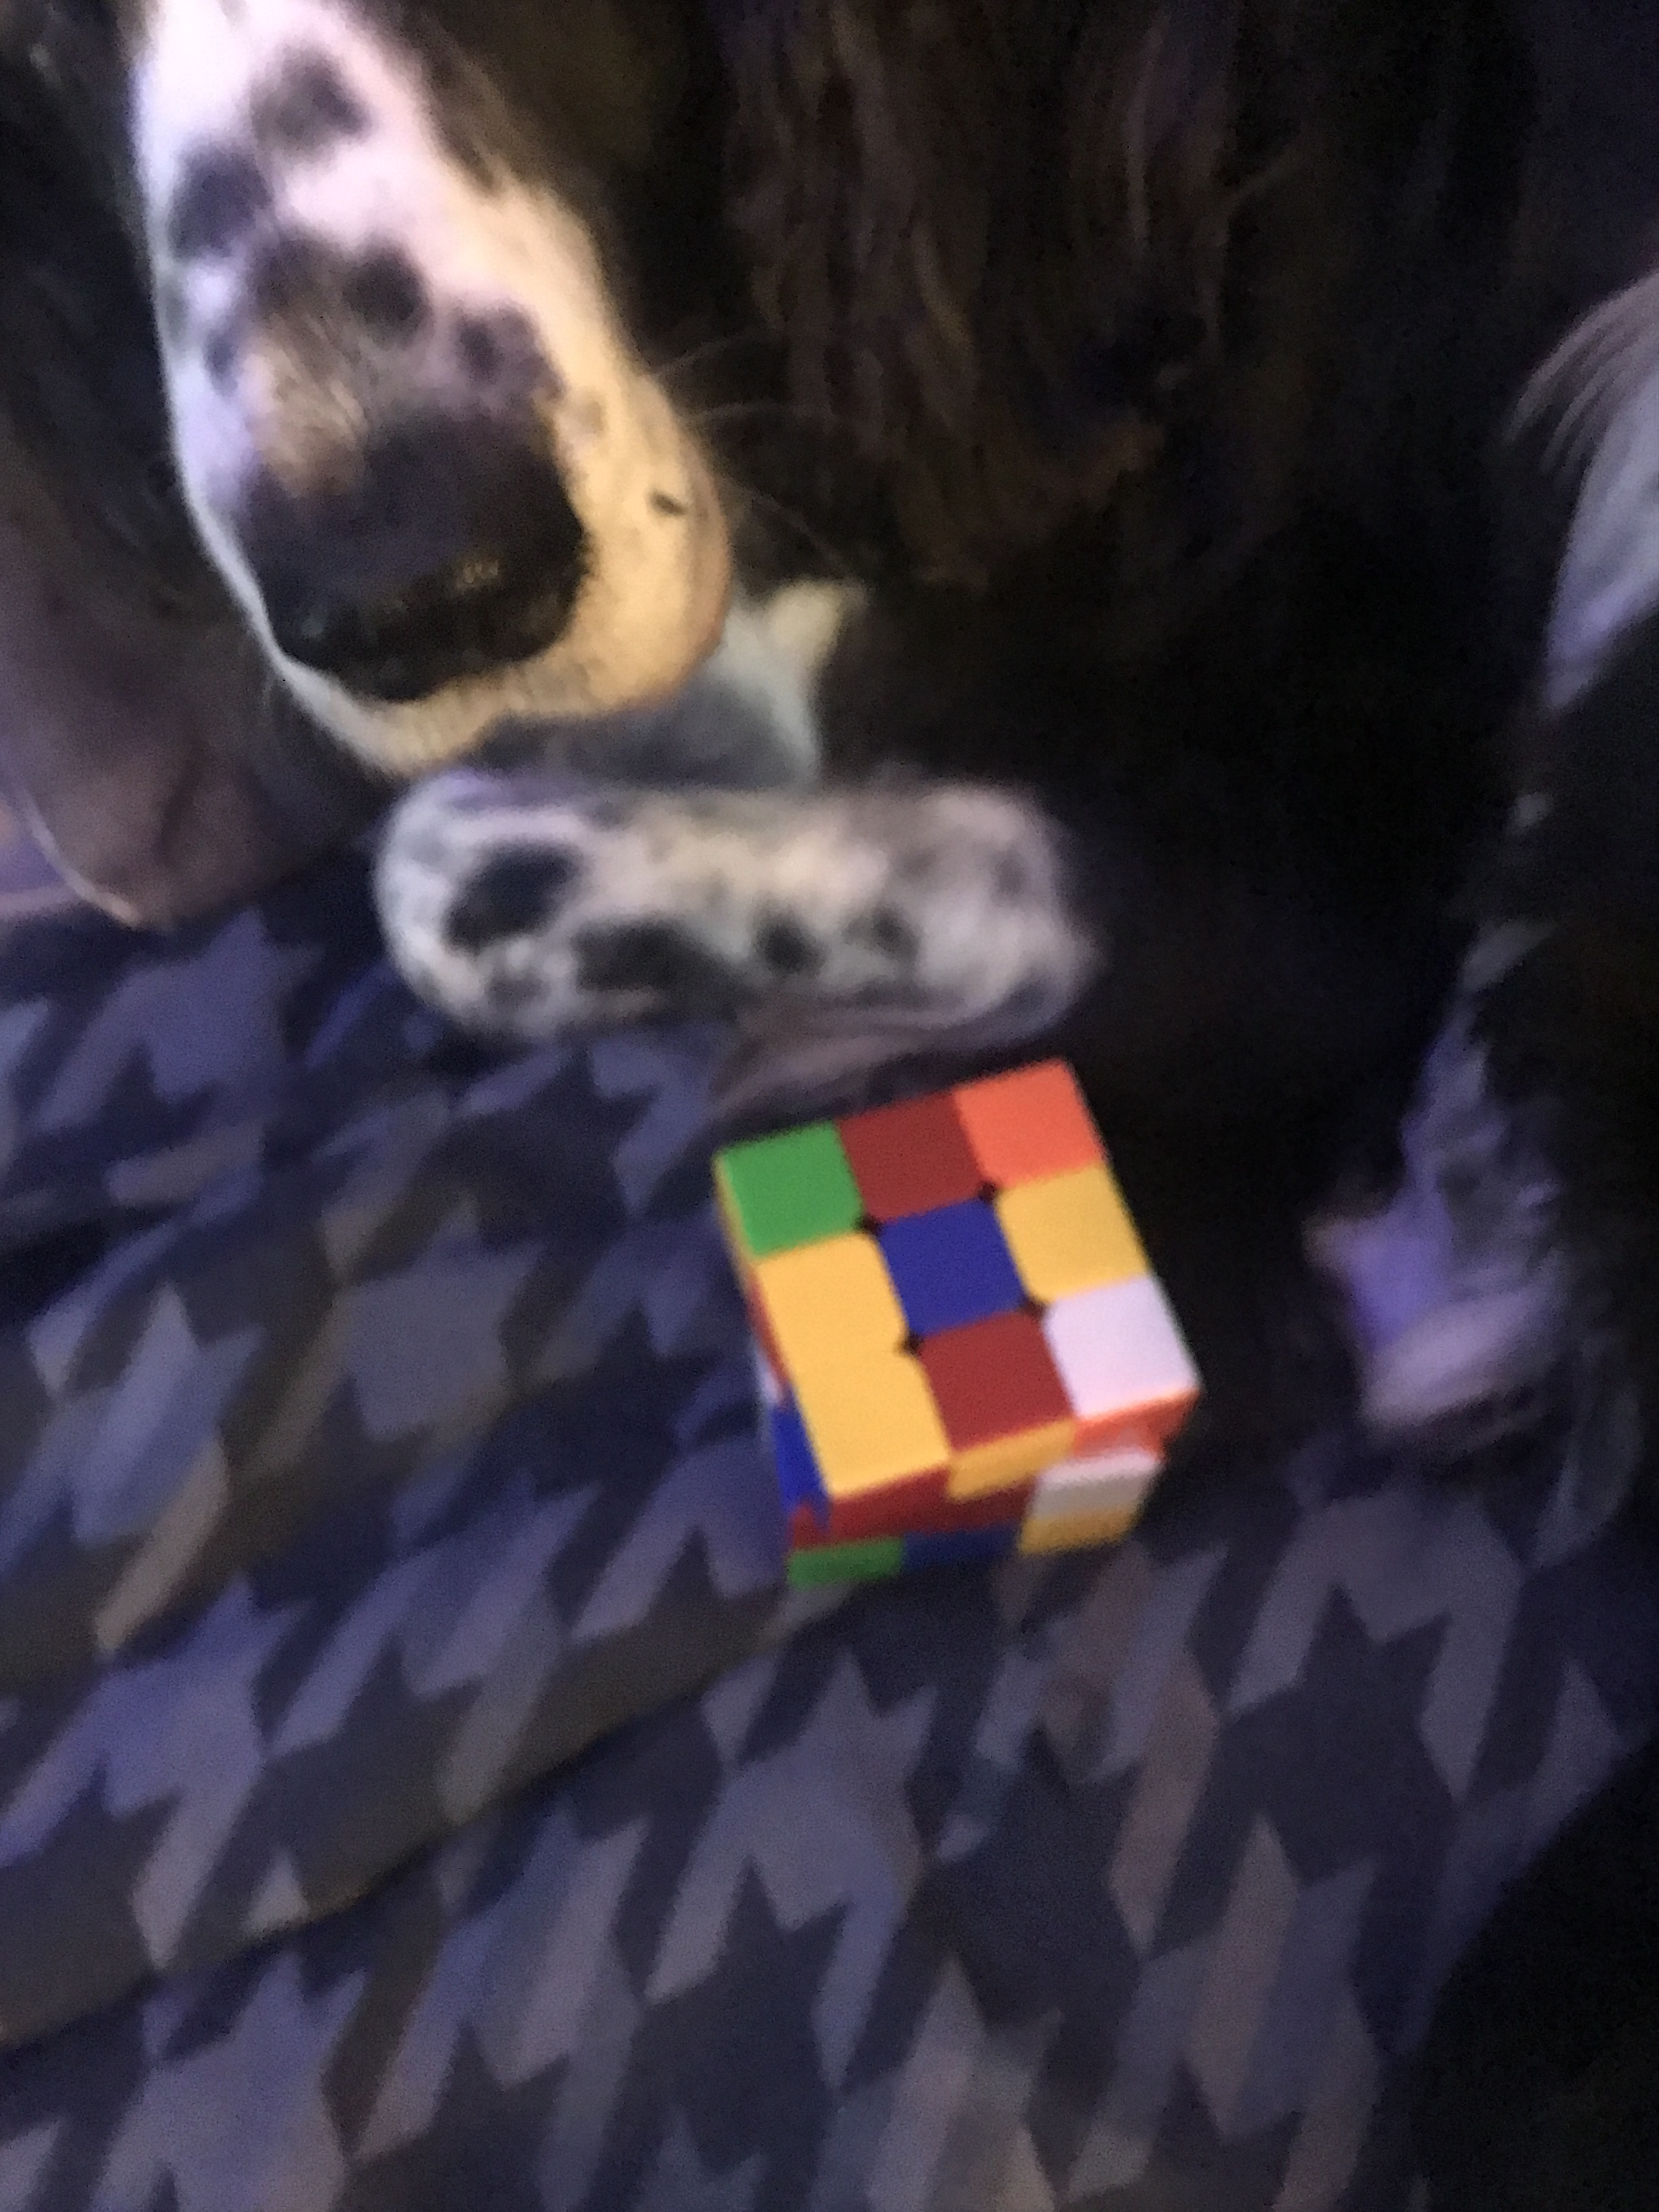rubiks: (713, 1059, 1185, 1611)
